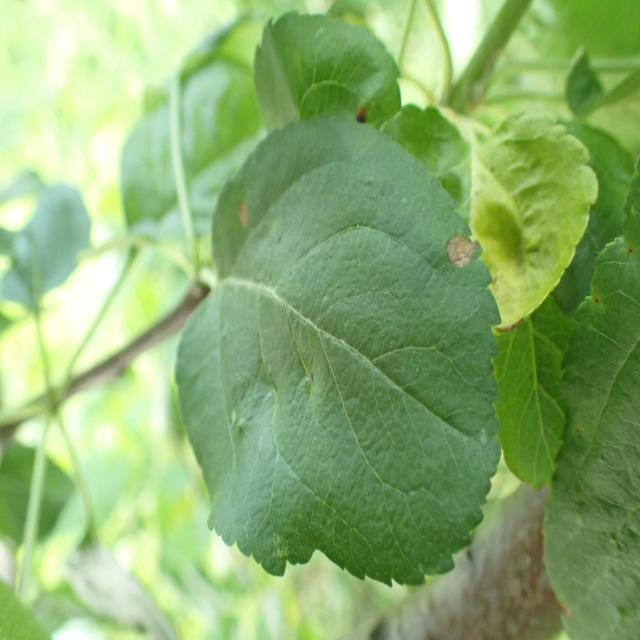frog-eye-leaf-spot: (206, 113, 504, 590)
